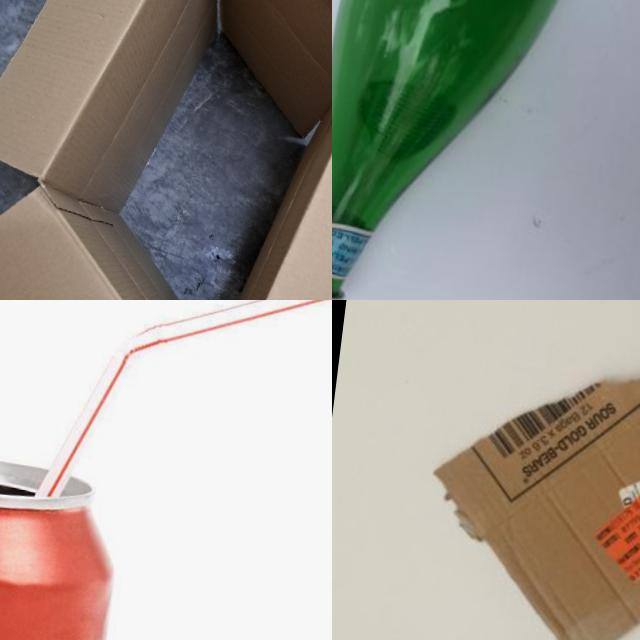garrafa de vidro: (332, 0, 589, 300)
lata: (0, 426, 127, 640)
papelão: (0, 0, 332, 300), (415, 312, 640, 640)
